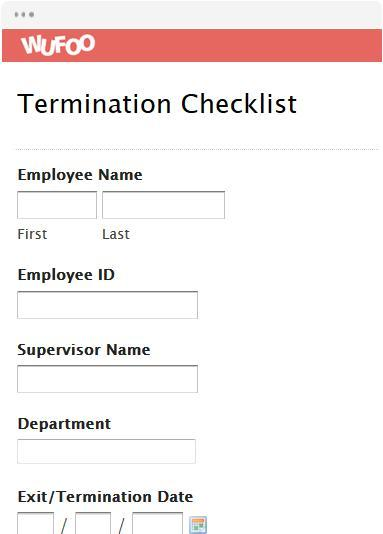icon: (189, 514, 209, 534)
input: (18, 291, 199, 320), (17, 366, 200, 393), (18, 441, 197, 466), (102, 191, 225, 220), (18, 191, 99, 220), (133, 514, 183, 534), (18, 513, 55, 534), (76, 514, 112, 534)
label: (12, 488, 198, 508), (18, 262, 120, 287), (15, 341, 156, 359), (13, 166, 143, 184), (20, 412, 111, 434), (96, 227, 136, 245), (18, 227, 51, 244)
